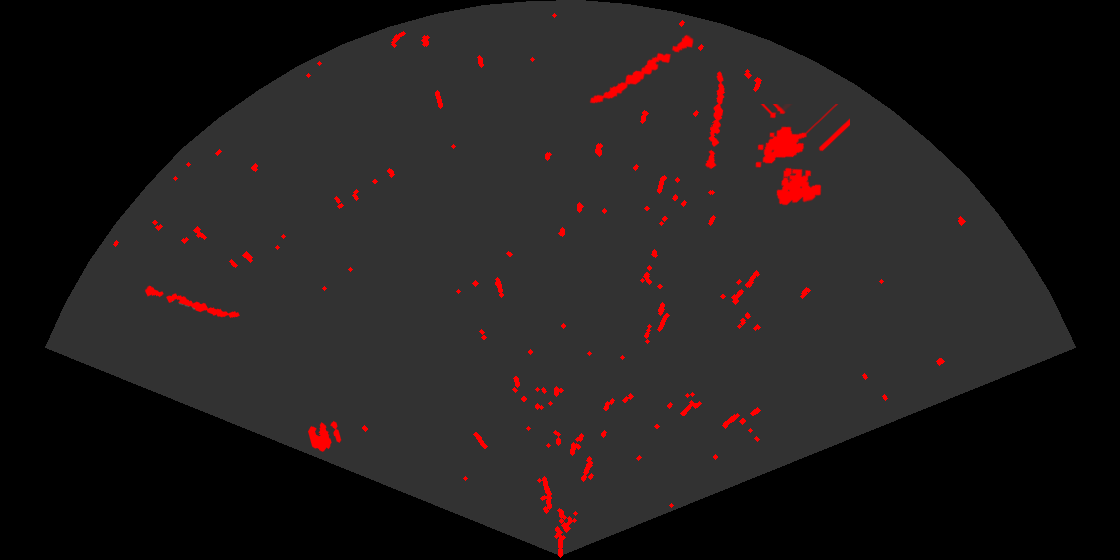ball: (306, 419, 343, 453)
cage: (754, 104, 850, 207)
chain: (588, 33, 695, 105), (142, 284, 241, 320), (704, 70, 727, 171)
